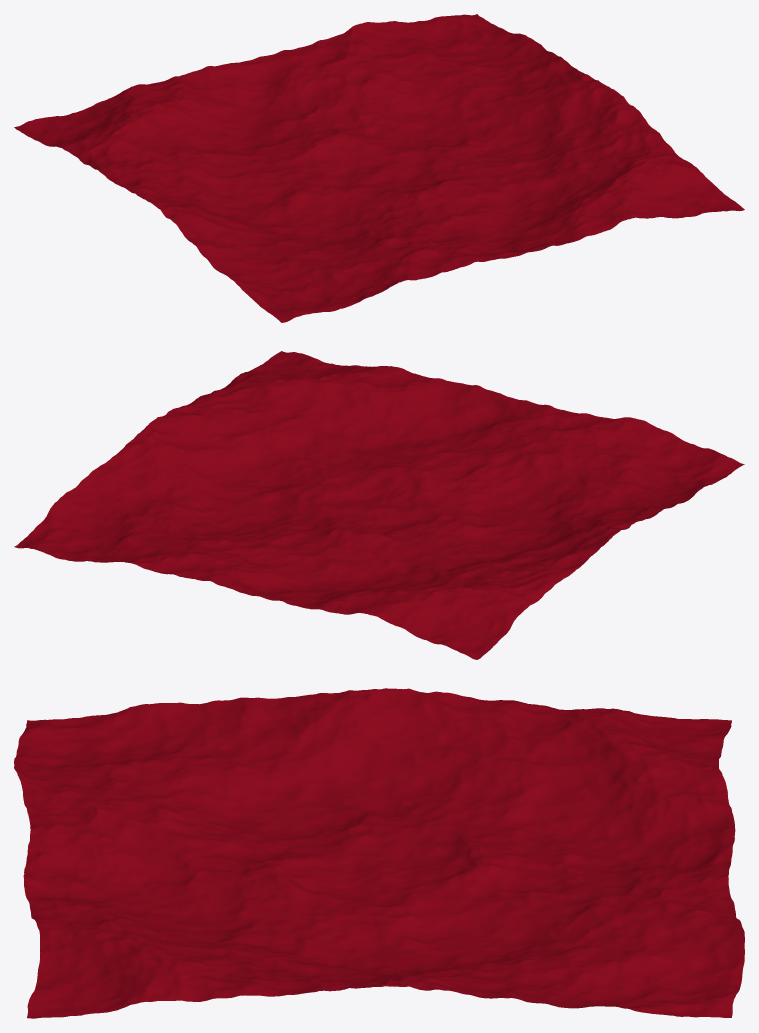
Rendered from Ocean.fbx.
The picture shows the model from 3 angles, top to bottom: view 1: azimuth 30°, elevation 25°; view 2: azimuth 150°, elevation 25°; view 3: azimuth 270°, elevation 25°; orthographic projection. The views are drawn at different scales.
Parts seen in each view (by area): view 1: Cube; view 2: Cube; view 3: Cube.
Part boxes in pixels (x1,y1,x2,y2): Cube: [14, 14, 744, 322]; Cube: [14, 351, 744, 659]; Cube: [14, 688, 744, 1018].
Size of the model in its own units: 3118 by 214 by 3160.
